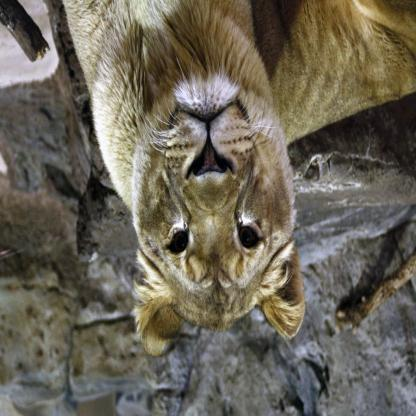lion: (130, 58, 308, 366)
